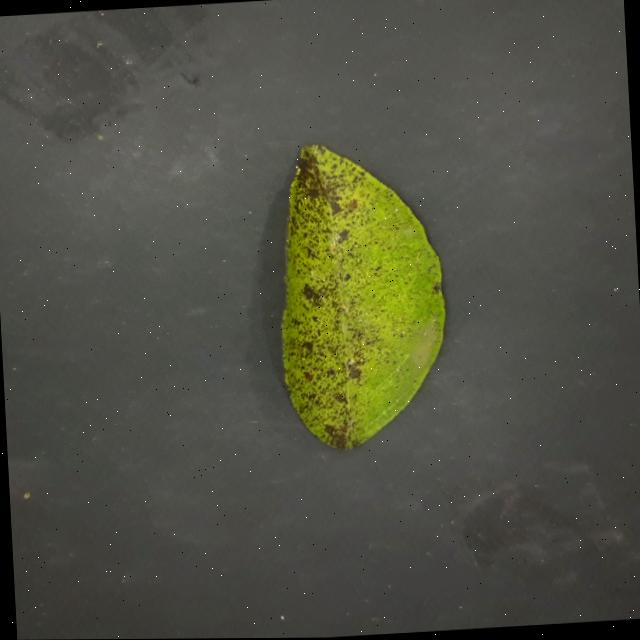greasy_spot: (281, 145, 445, 449)
